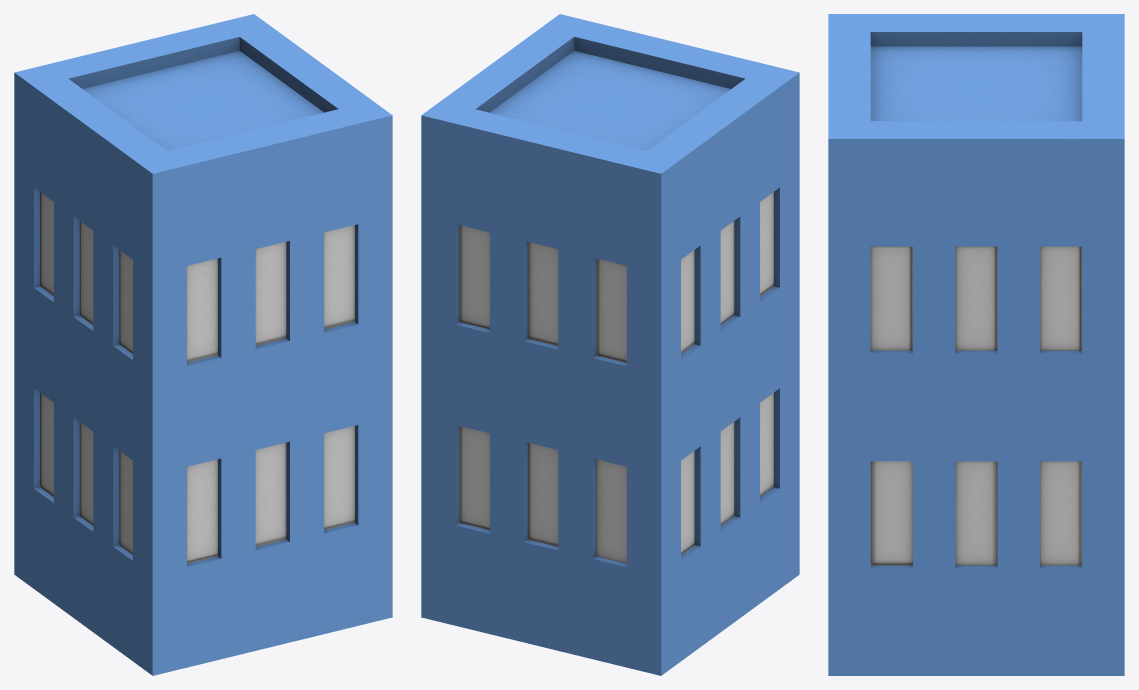
Rendered from lowPolyBuild6.glb.
3 views of the same model, side by side, from view 1: azimuth 30°, elevation 25°; view 2: azimuth 150°, elevation 25°; view 3: azimuth 270°, elevation 25° (orthographic). The views are drawn at different scales.
Visible parts, largest first — view 1: Plane; view 2: Plane; view 3: Plane.
Boxes of the visible parts, bbox=[...] form: Plane: bbox=[14, 14, 392, 675]; Plane: bbox=[421, 14, 799, 675]; Plane: bbox=[828, 14, 1124, 675].
Bounding box in the file's own units: 2 × 4 × 2.
1 material, 1 textured.
